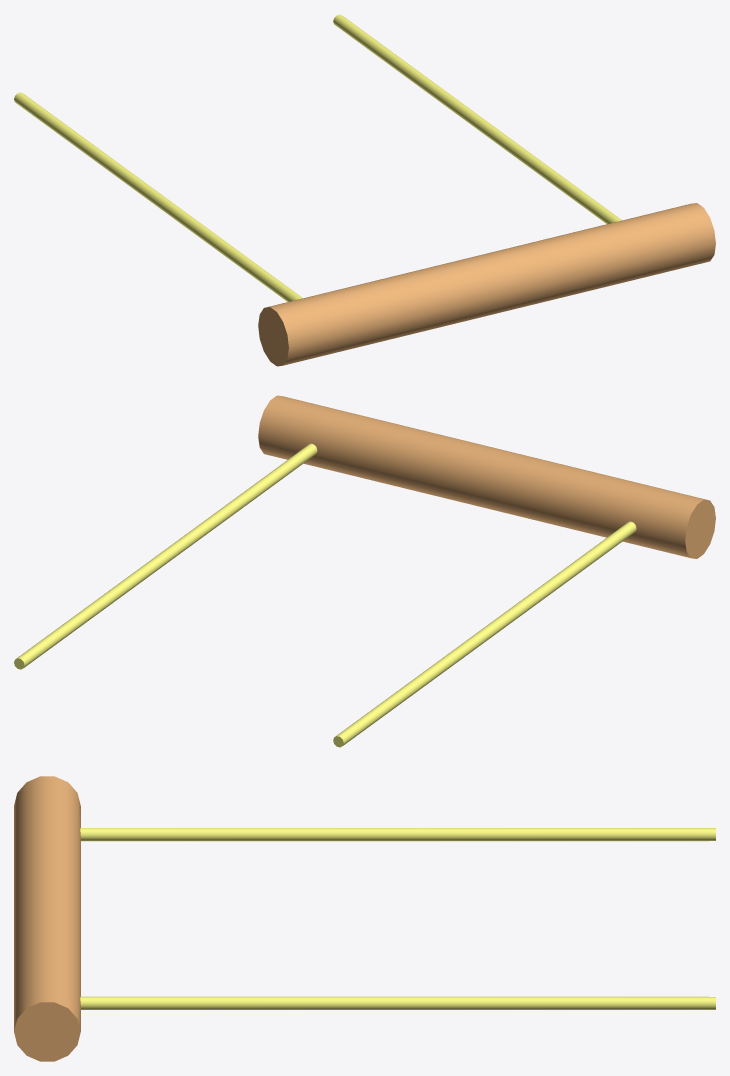
The model's file is swinger.FBX.
3 renders of one model, top to bottom at view 1: azimuth 30°, elevation 25°; view 2: azimuth 150°, elevation 25°; view 3: azimuth 270°, elevation 25°, orthographic. The views are drawn at different scales.
Parts seen in each view (by area): view 1: swinger; view 2: swinger; view 3: swinger.
Part boxes in pixels (x1,y1,x2,y2): swinger: (14,14,715,366); swinger: (14,395,715,747); swinger: (14,776,715,1061).
Size of the model in its own units: 4000 by 487 by 5250.
